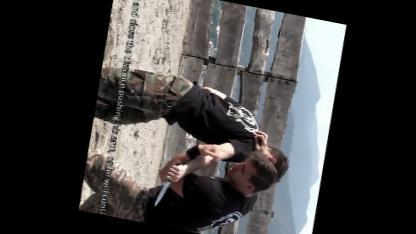knife: (148, 156, 186, 212)
